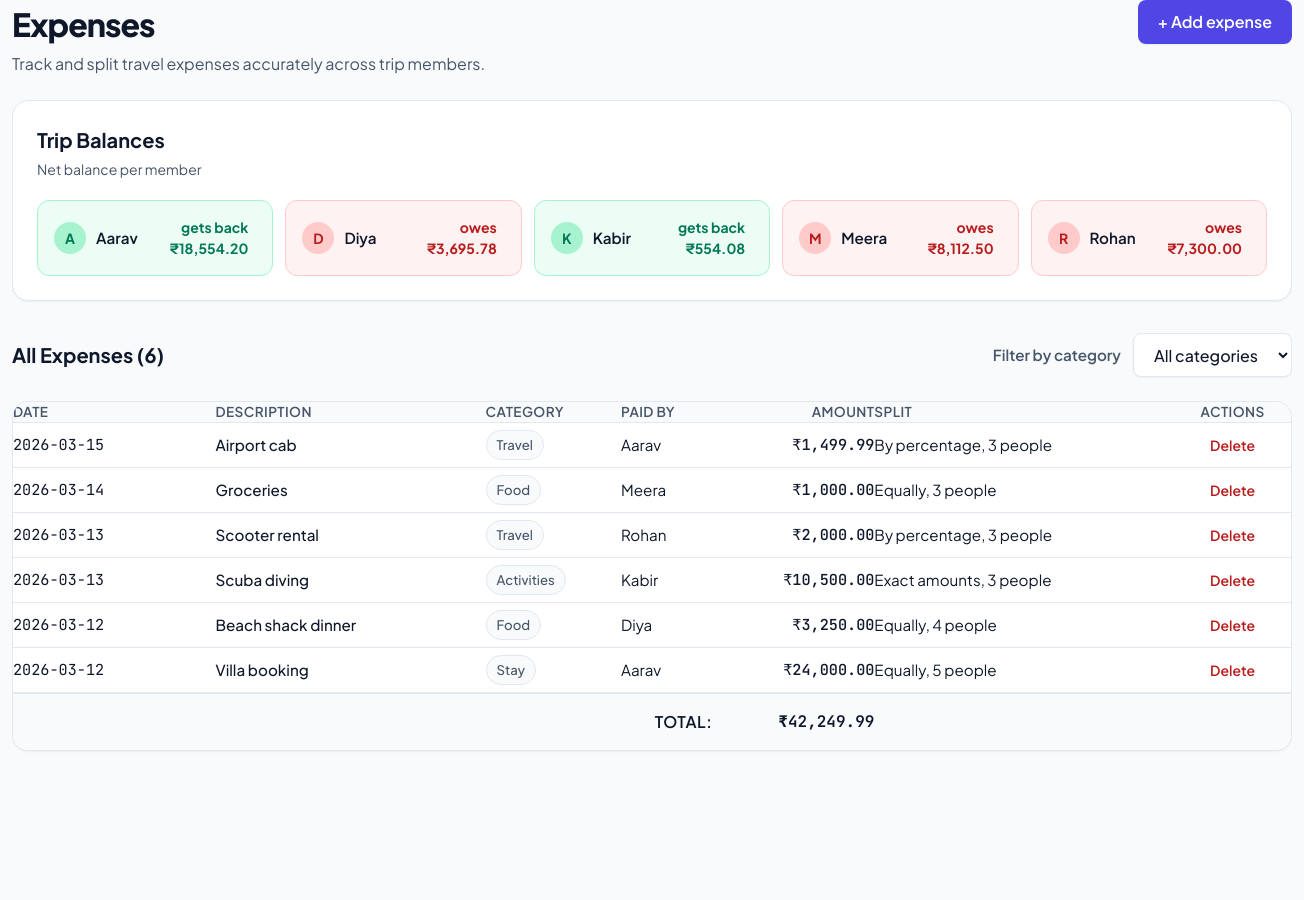
Test: ExpensesPage › filters expenses by category and updates rows and total
Select "Food" in the dropdown labelled "Filter by category" at (1212, 355), box [1133,333,1292,377]
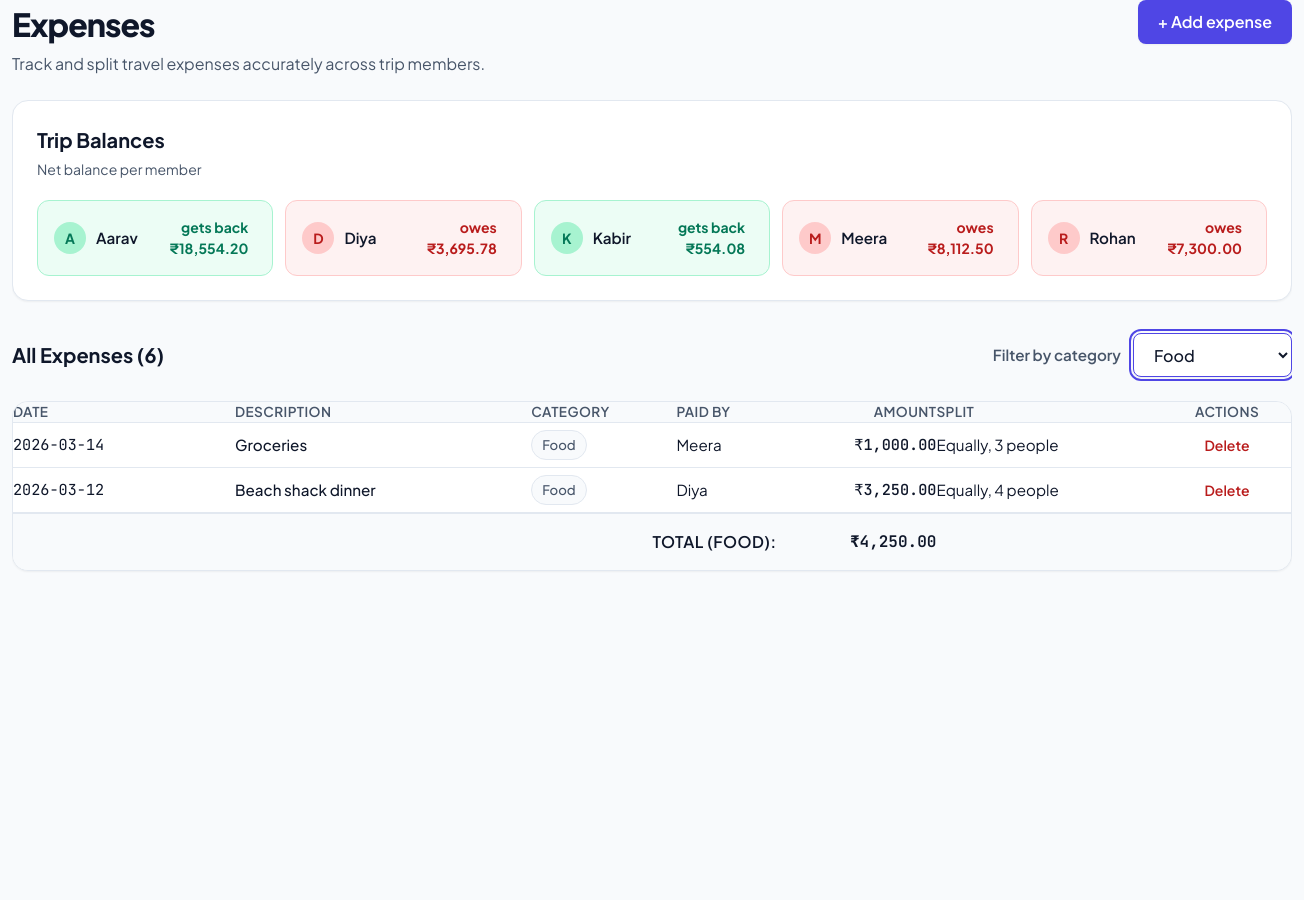
Expected: the text "Villa booking" is gone
Expected: the column heading "Total (Food):" is shown, [13,513,776,570]
Expected: the text "₹4,250.00" is shown, [776,513,936,570]
